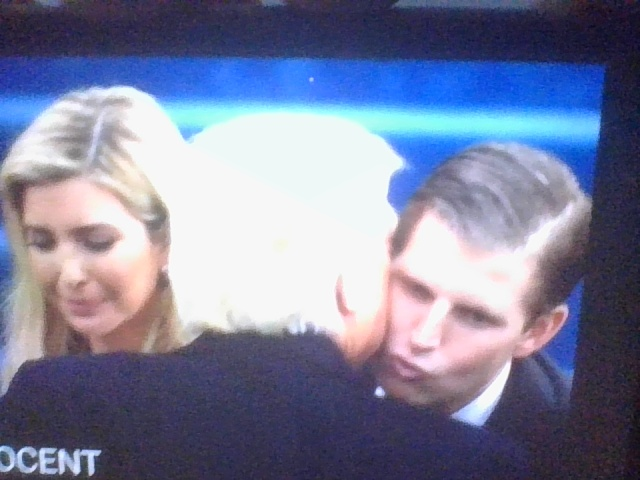fake: (369, 154, 547, 407), (14, 122, 178, 354)
